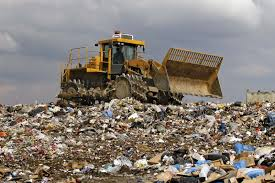garbage: (3, 105, 275, 182)
